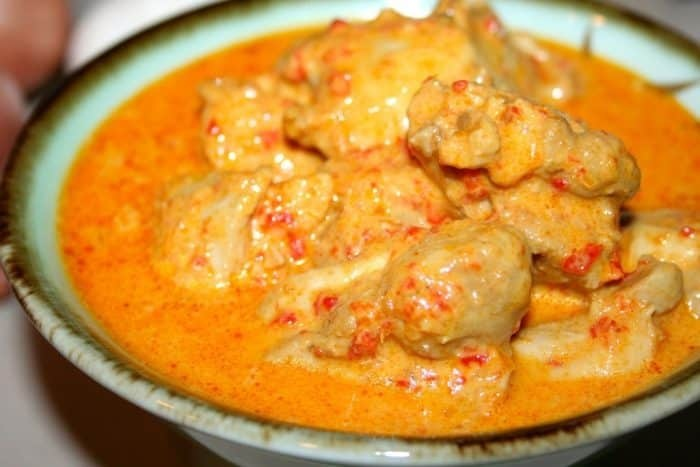gulai_ayam: (59, 11, 695, 428)
